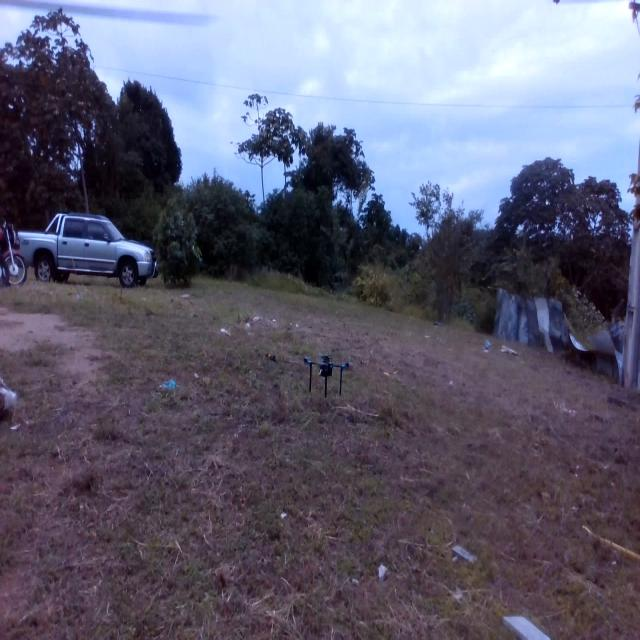-uav-: (297, 344, 356, 403)
